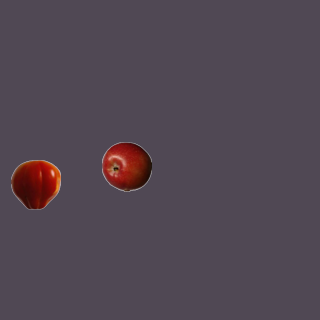Apple Braeburn: (101, 141, 151, 191)
Tomato 1: (10, 159, 60, 209)
